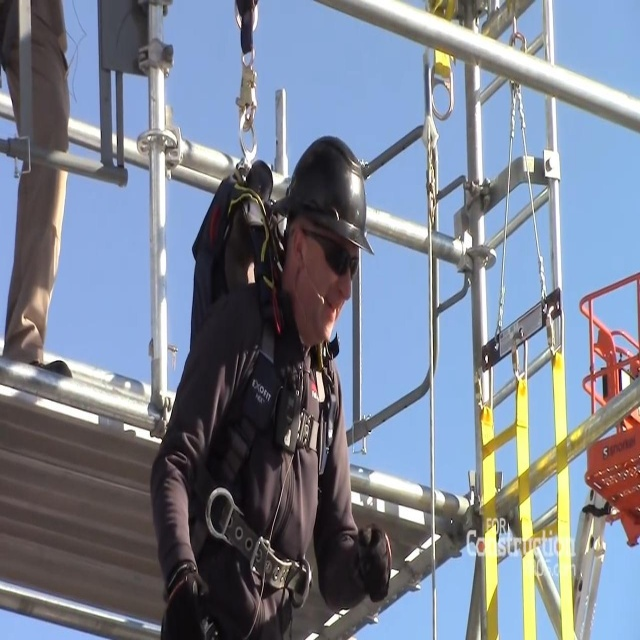Arnes_seguridad: (173, 177, 361, 640)
